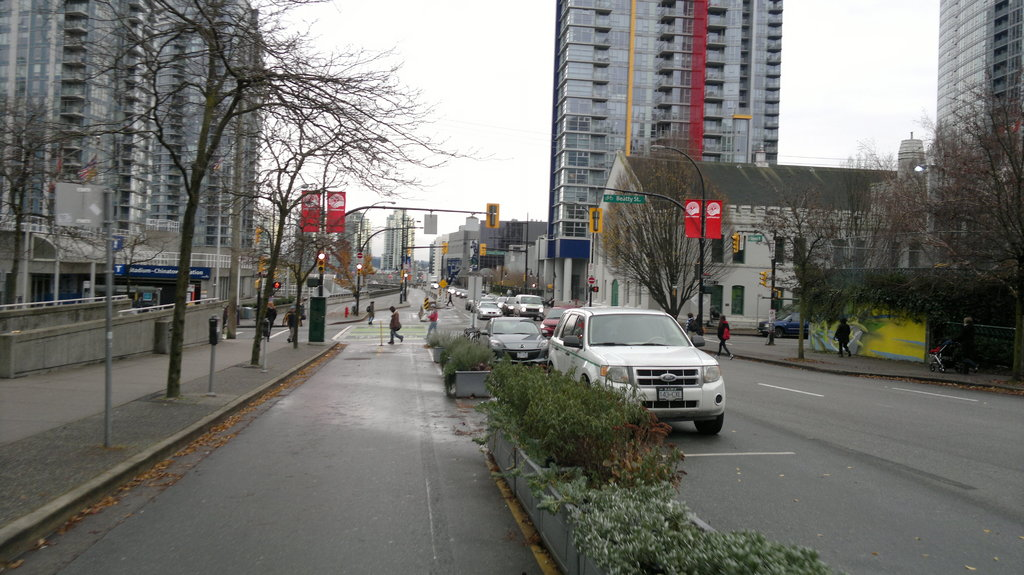cars: (544, 306, 727, 436), (469, 314, 546, 366), (757, 315, 807, 340), (515, 294, 545, 320), (541, 298, 566, 327), (539, 305, 560, 334), (477, 298, 496, 314)
